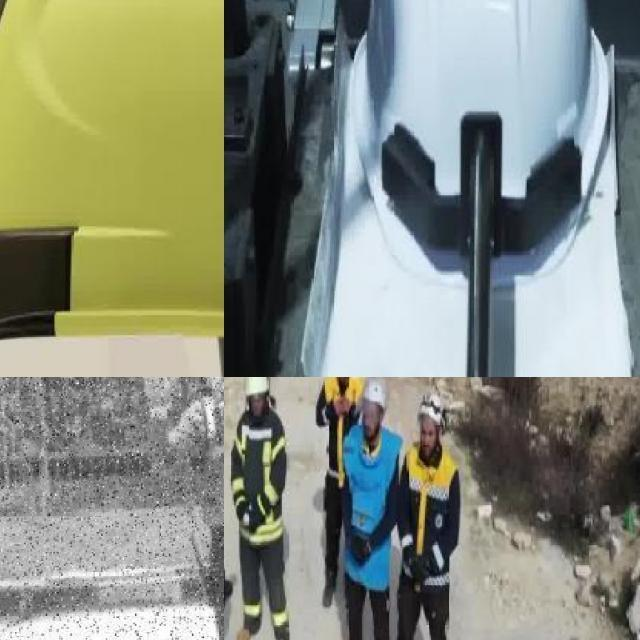apron: (136, 377, 182, 421)
